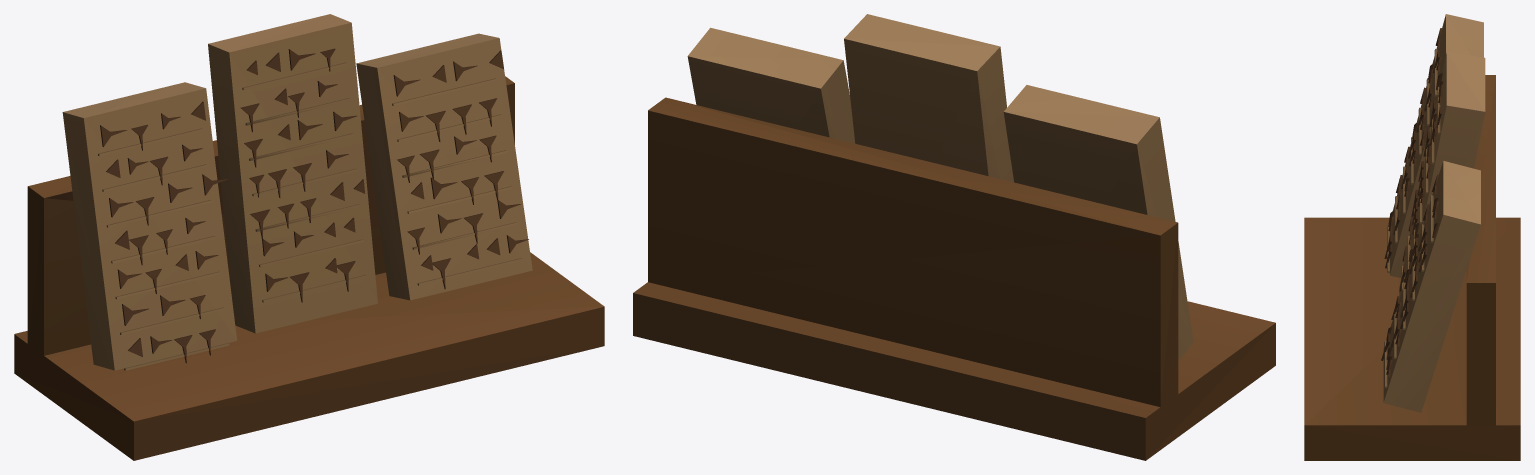
The picture shows the model from 3 angles, left to right: view 1: azimuth 30°, elevation 25°; view 2: azimuth 150°, elevation 25°; view 3: azimuth 270°, elevation 25°; orthographic projection. The views are drawn at different scales.
Visible parts, largest first — view 1: base; view 2: base; view 3: base.
Boxes of the visible parts, x1=… form: base: x1=14, y1=14, x2=604, y2=460; base: x1=633, y1=14, x2=1275, y2=460; base: x1=1304, y1=14, x2=1520, y2=460.
Size of the model in its own units: 0.5 by 0.3128 by 0.22.
